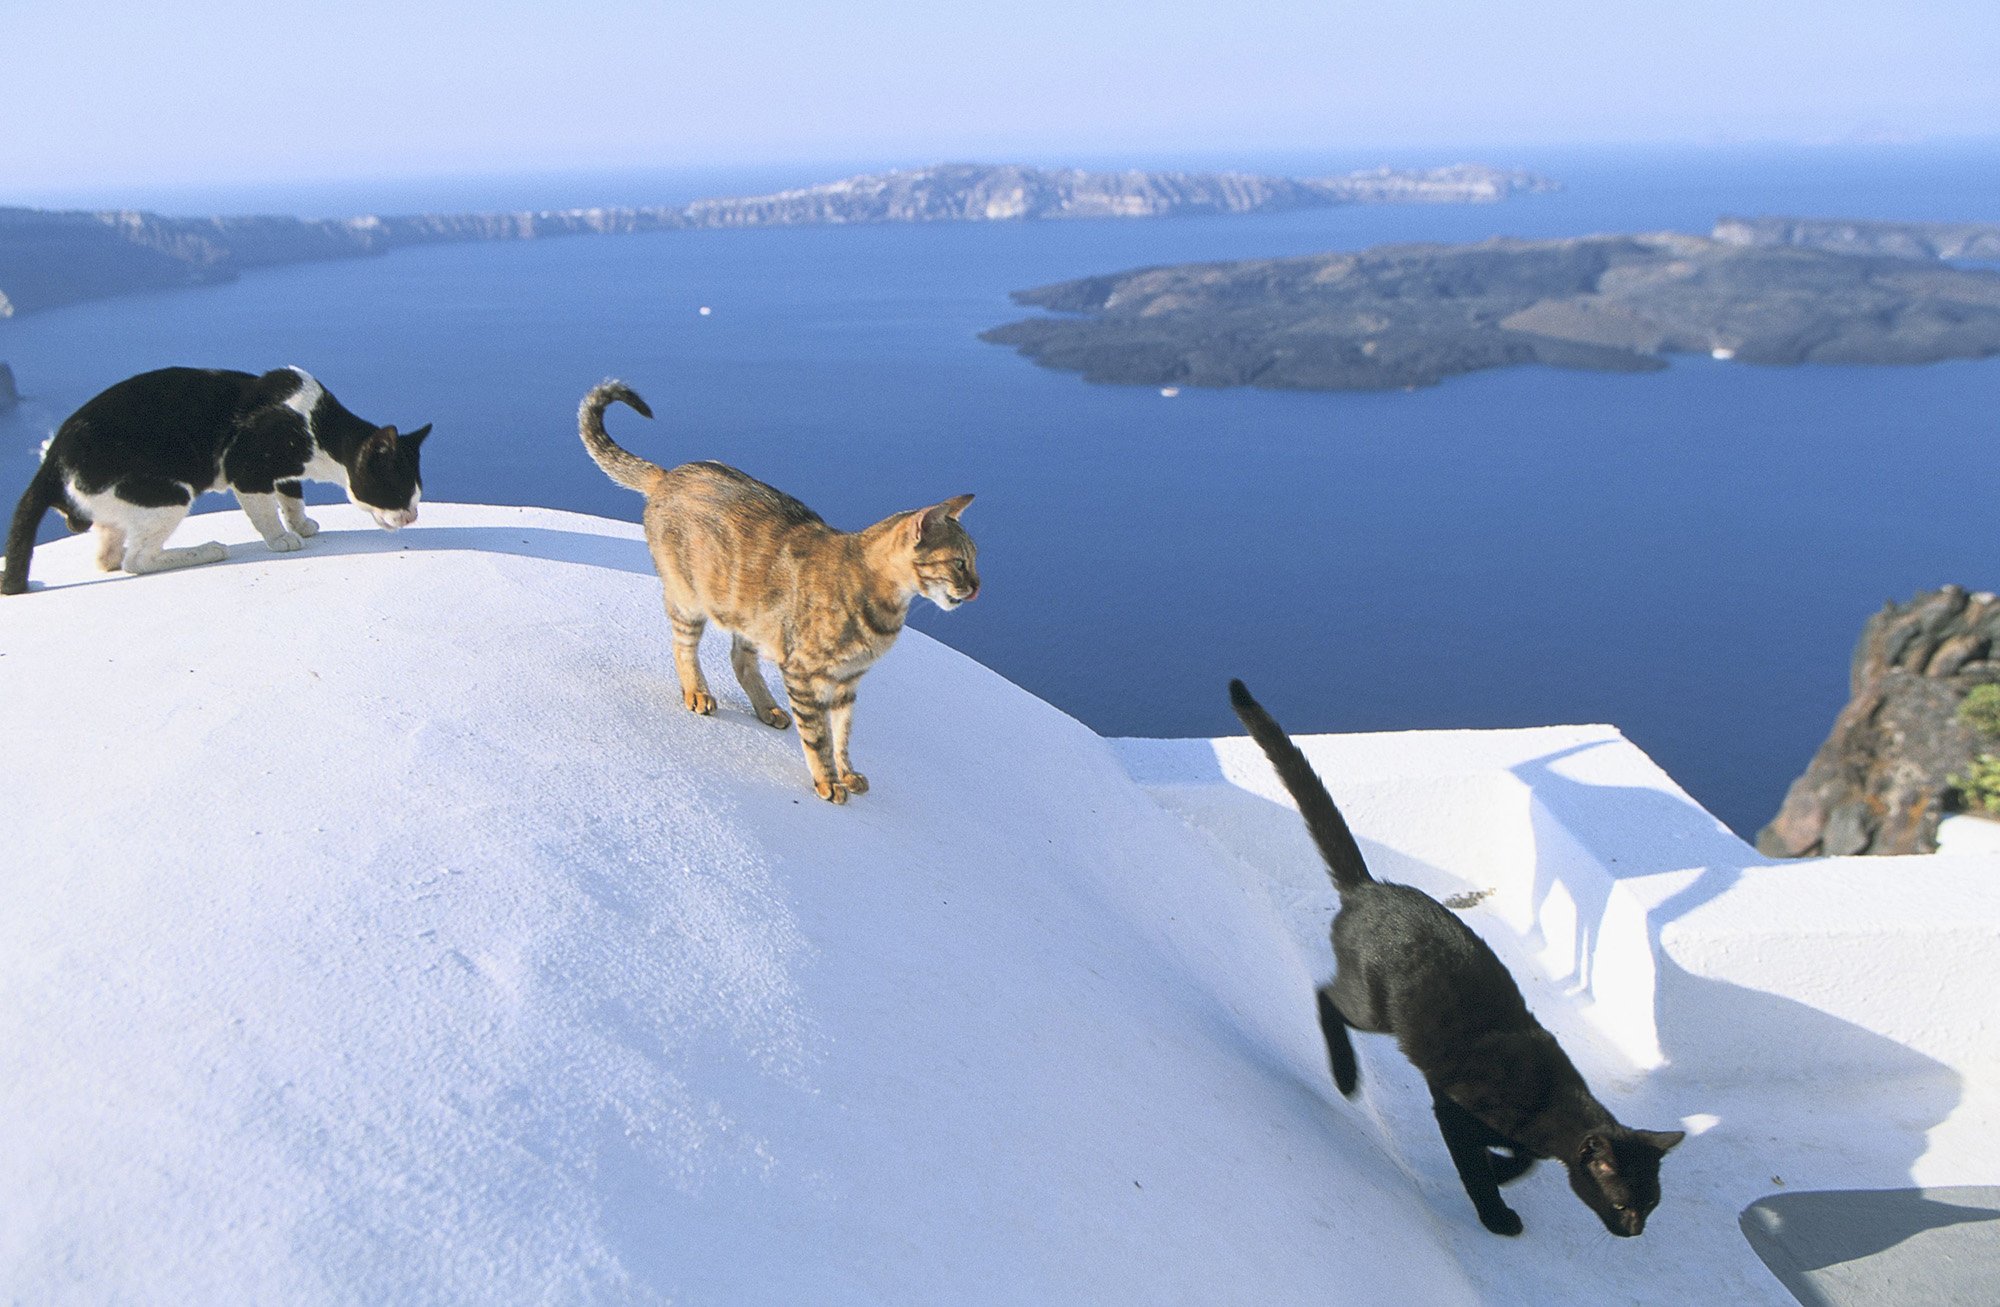cat: (1252, 764, 1679, 1254), (562, 368, 1004, 811), (15, 330, 460, 586)
